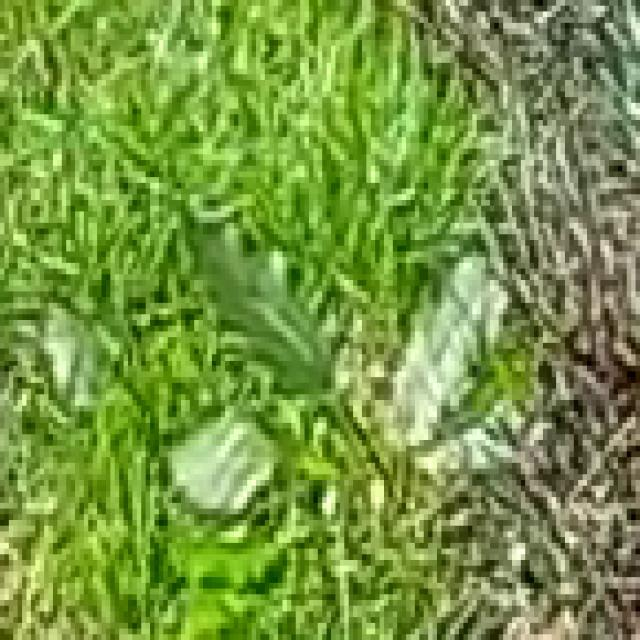organic waste: (128, 166, 450, 554)
